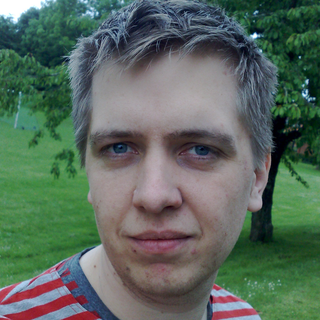eye: (167, 138, 229, 163), (91, 139, 144, 162)
